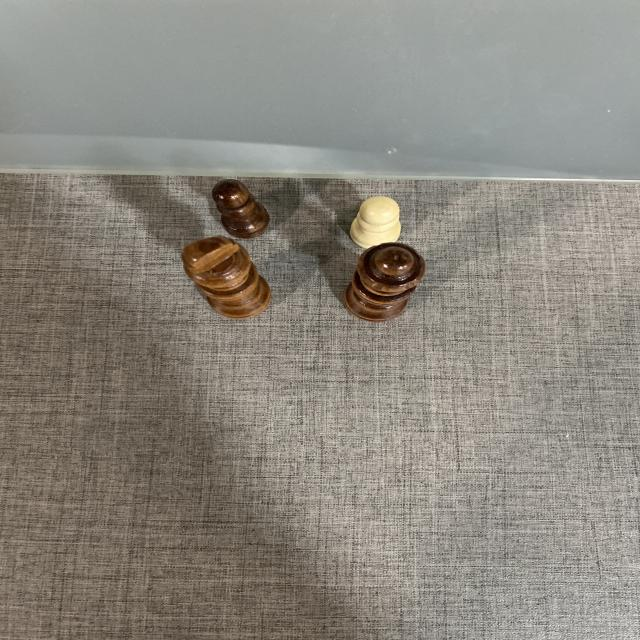Black-King: (182, 238, 271, 317)
Black-Pawn: (214, 179, 270, 238)
Black-Queen: (339, 242, 426, 322)
White-Pawn: (350, 197, 402, 248)
